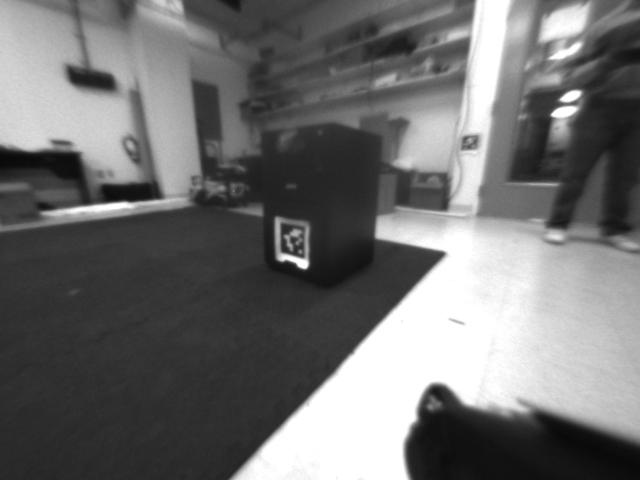drawer: (268, 127, 308, 158)
